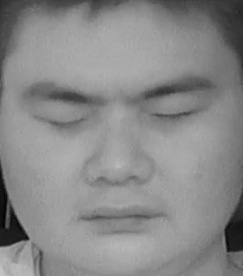blink: (32, 104, 86, 137), (152, 100, 202, 132)
mouth: (77, 193, 168, 241)
